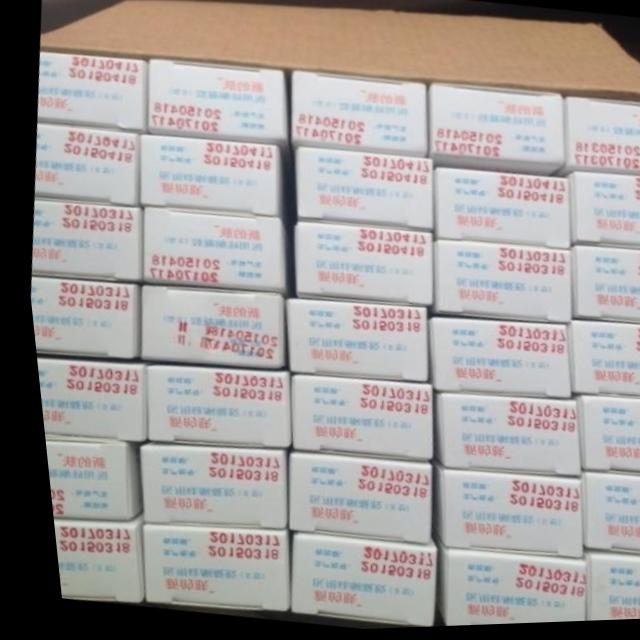box: (421, 459, 569, 563), (144, 57, 289, 163), (275, 534, 425, 630), (276, 451, 421, 549), (128, 441, 278, 533), (136, 206, 283, 299), (130, 523, 276, 616), (283, 222, 429, 311), (137, 361, 281, 451), (276, 300, 423, 388), (423, 87, 562, 180), (138, 136, 283, 225), (424, 240, 568, 329), (281, 374, 423, 464), (424, 396, 570, 483), (132, 283, 277, 370), (423, 547, 575, 629), (289, 71, 429, 159), (292, 149, 428, 237), (423, 319, 568, 401), (429, 171, 568, 254), (30, 120, 142, 208), (24, 276, 135, 363), (26, 199, 137, 285), (29, 357, 136, 444), (35, 51, 148, 133), (35, 434, 133, 523), (42, 510, 133, 603), (550, 100, 640, 182), (562, 318, 640, 402), (561, 173, 640, 254), (567, 475, 640, 561), (565, 247, 640, 329), (568, 401, 640, 481), (572, 552, 640, 625)
